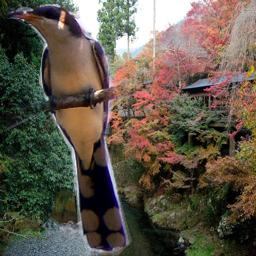Cuckoo: (6, 4, 132, 256)
